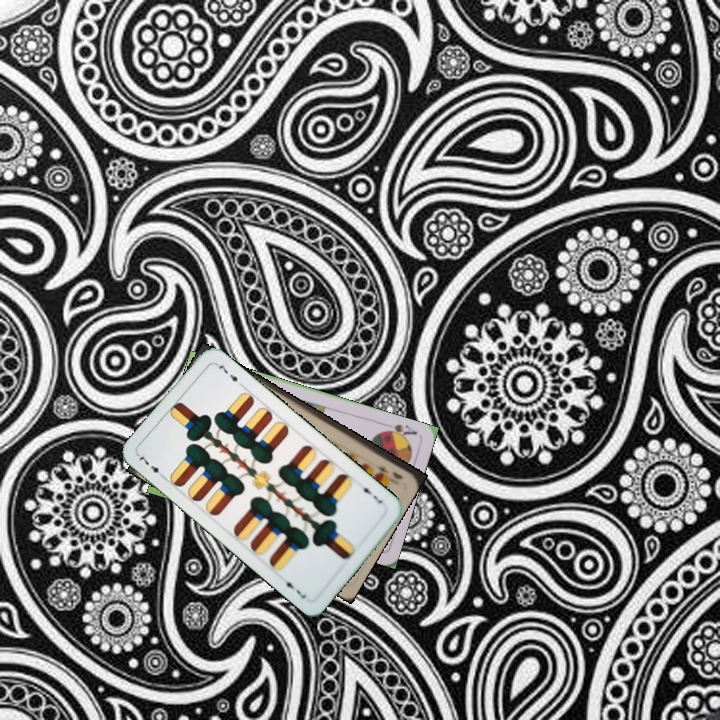E10: (372, 461, 406, 482)
E7: (134, 450, 168, 481), (357, 480, 386, 507)
SA: (378, 419, 420, 442)
